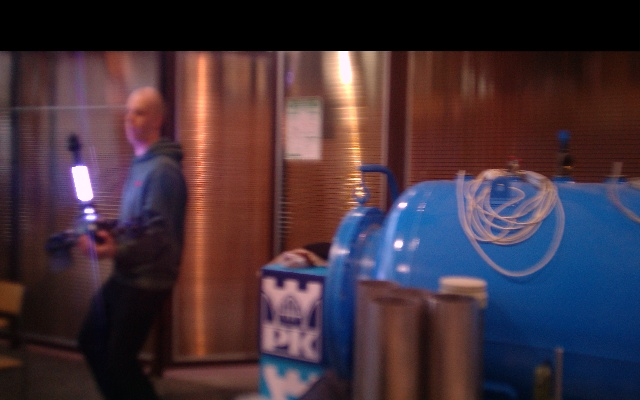white: (71, 164, 94, 203)
